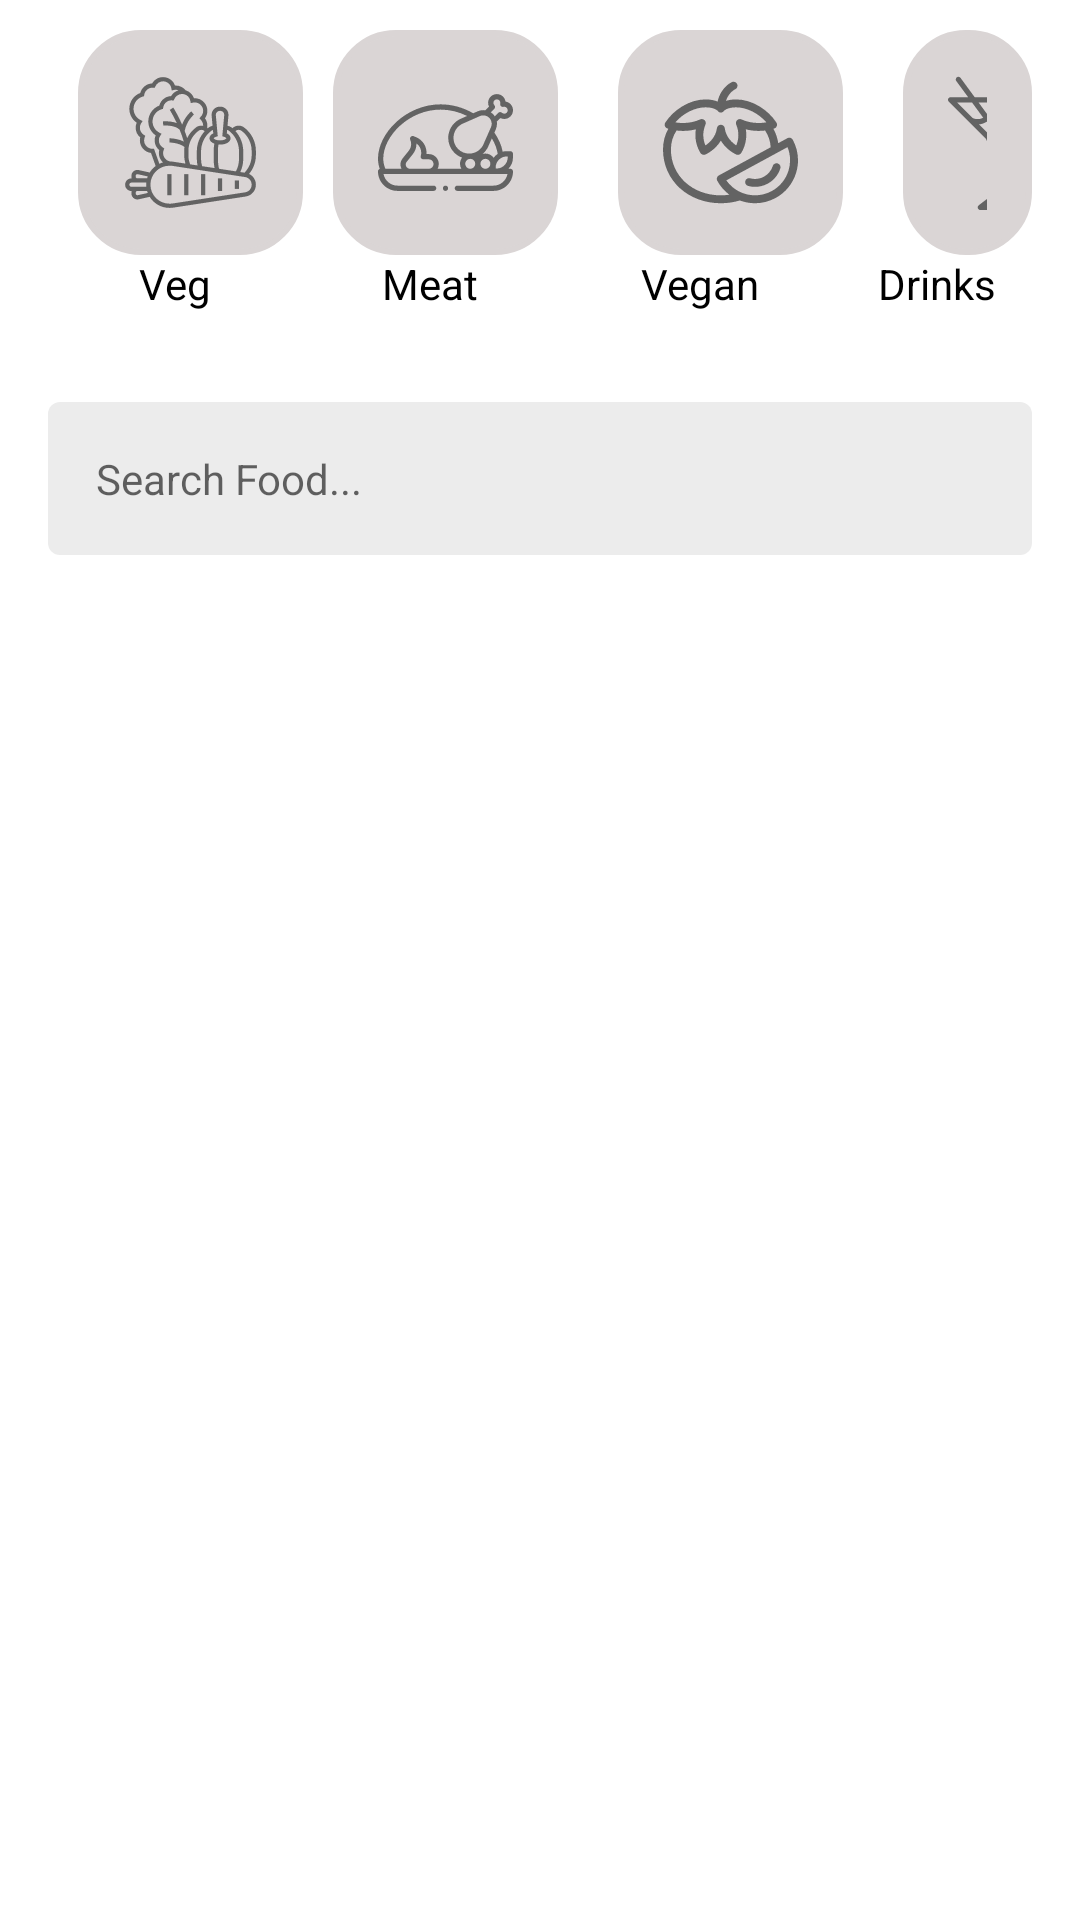

Screen size 1080*1920. Icon name, then its box in pixels as (x1, y1, x2, y2):
vegetarian: (125, 77, 256, 208)
